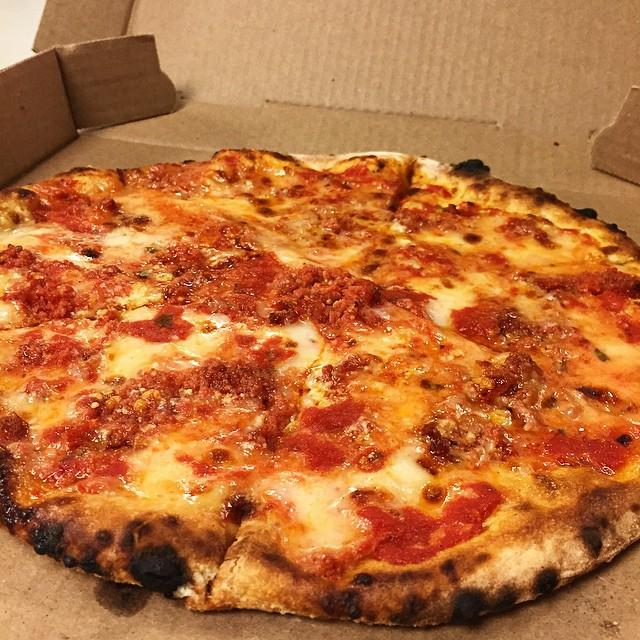pizza: (0, 150, 640, 624)
